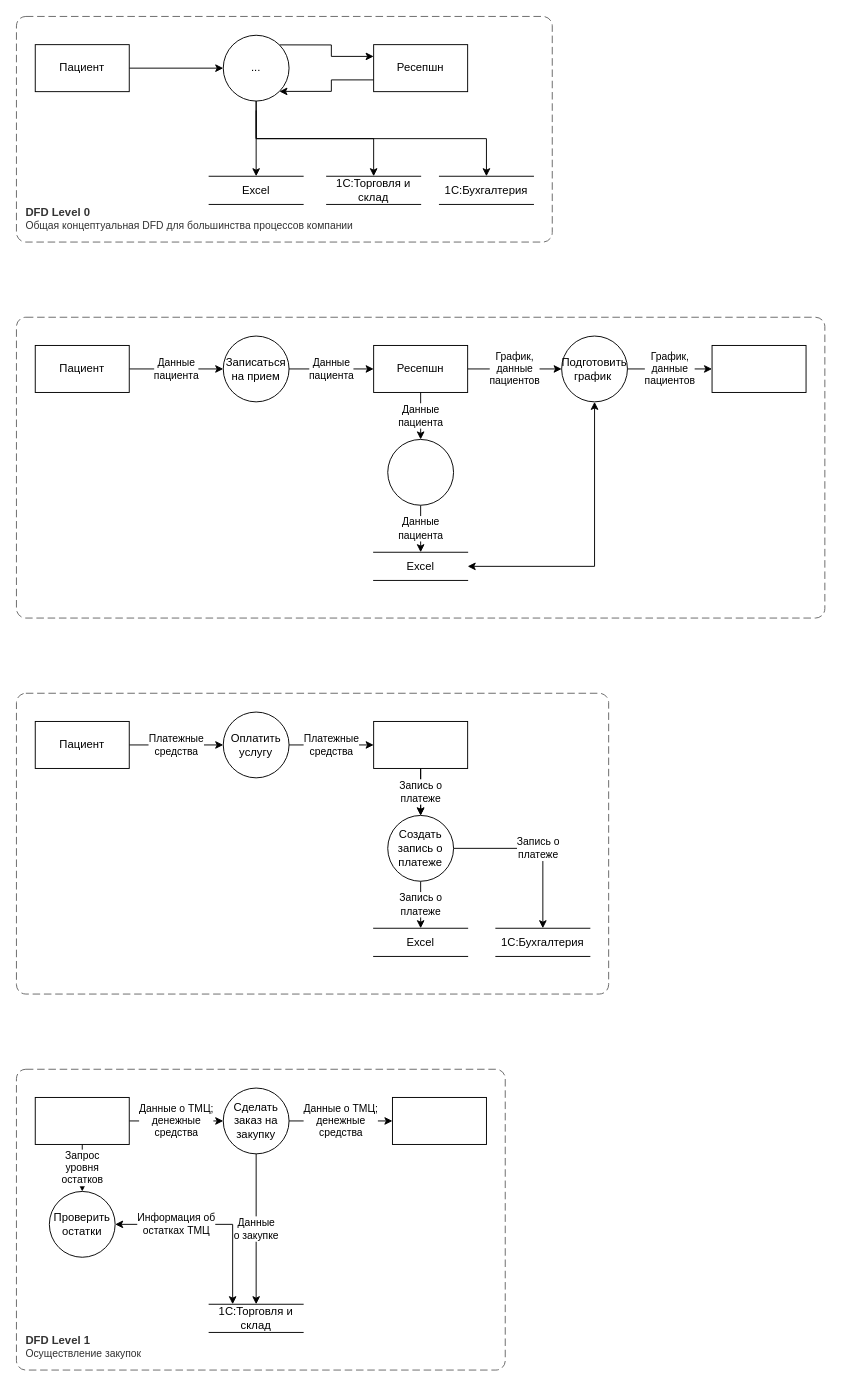
This 841x1387 diagram has some shape labels left out. Here are the shapes that lost their labels. From the top down, the box of each, then its label:
(711, 345, 806, 392): Врач
(16, 316, 825, 618): DFD Level 1 Запись на прием
(387, 439, 454, 505): Внести данные о записи
(373, 721, 468, 768): Касса
(16, 692, 609, 994): DFD Level 1 Оплата услуги пациентом
(34, 1097, 129, 1144): Менеджер по учету ТМЦ
(392, 1097, 486, 1144): Поставщик
